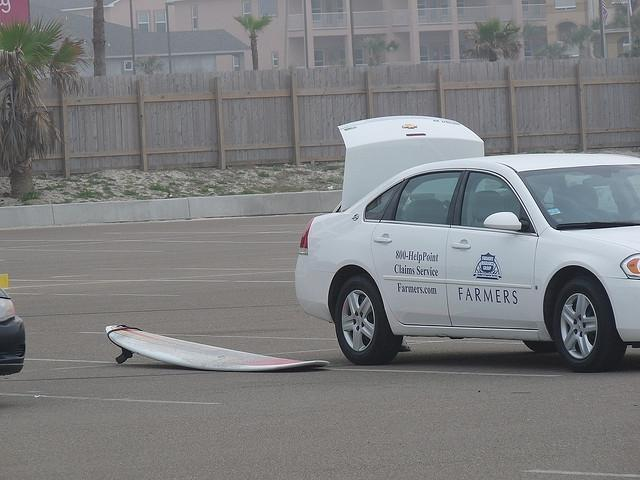car: (292, 113, 640, 371), (0, 290, 28, 373)
